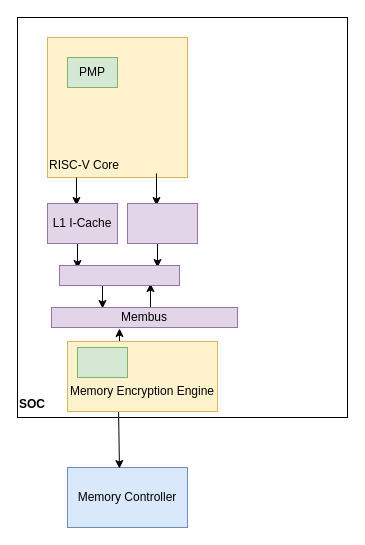
This 365x545 diagram has some shape labels left out. Each missing label, with the centre of its shape:
ePMP: [102,362]
L1 D-Cache: [162,223]
L2 Bus: [119,275]
